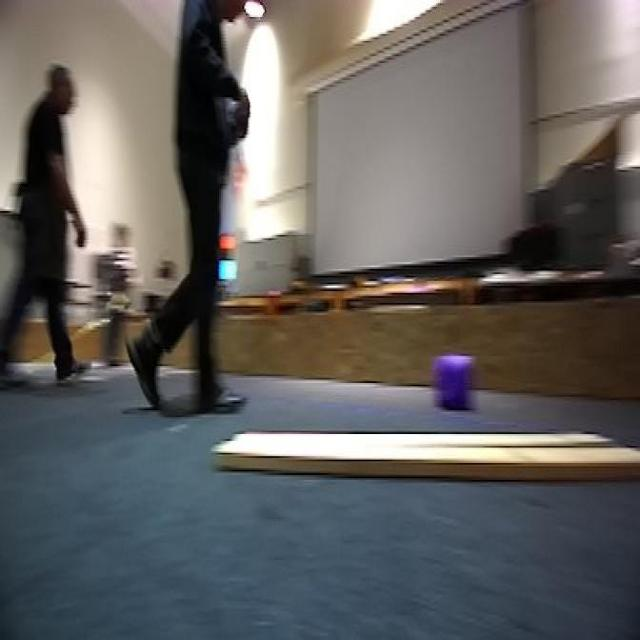frc_cube: (433, 354, 477, 412)
